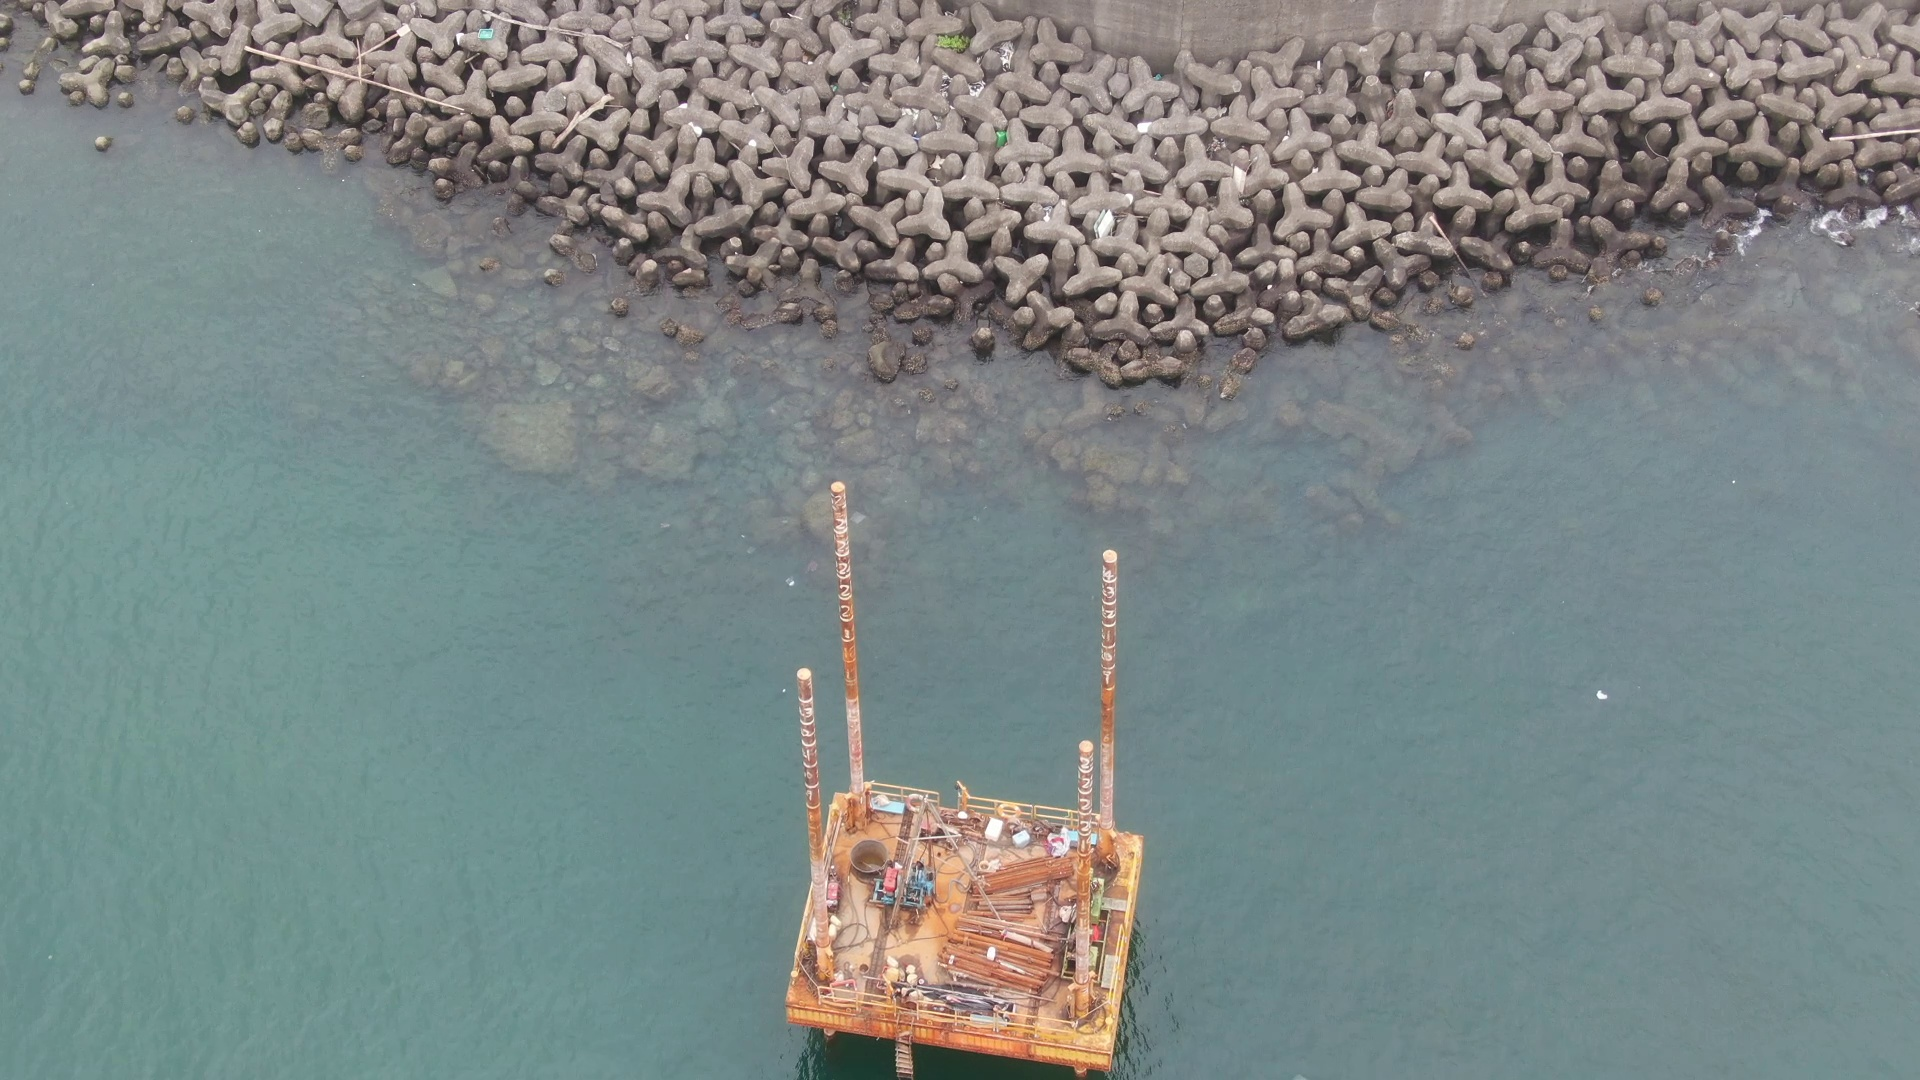garbage: (1079, 198, 1129, 243), (988, 112, 1011, 153)
